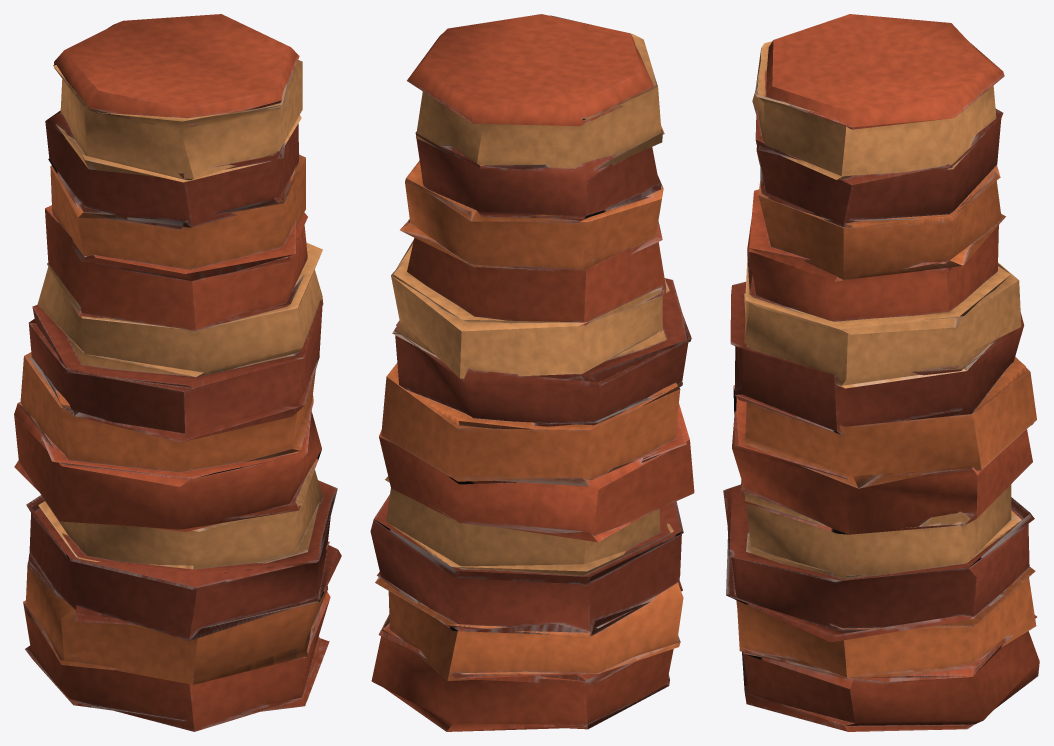
Rendered from rr_mesa_a.glb.
3 views of the same model, side by side, from view 1: azimuth 30°, elevation 25°; view 2: azimuth 150°, elevation 25°; view 3: azimuth 270°, elevation 25° (orthographic).
Parts seen in each view (by area): view 1: rr_mesa_a; view 2: rr_mesa_a; view 3: rr_mesa_a.
Boxes of the visible parts, x1,y1,x2,y2 form: rr_mesa_a: [14, 14, 341, 731]; rr_mesa_a: [370, 14, 694, 731]; rr_mesa_a: [723, 14, 1039, 731].
Size of the model in its own units: 13.92 by 29.09 by 13.58.
Materials: 4 (4 with a texture image).
